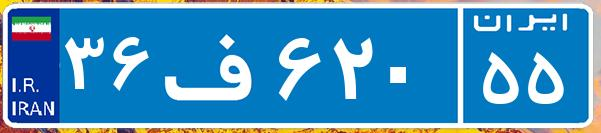0: (385, 28, 445, 110)
2: (330, 28, 385, 110)
3: (57, 26, 110, 107)
5: (475, 38, 525, 113), (525, 38, 570, 115)
6: (273, 28, 330, 110), (110, 28, 158, 105)
ف: (158, 15, 273, 115)
